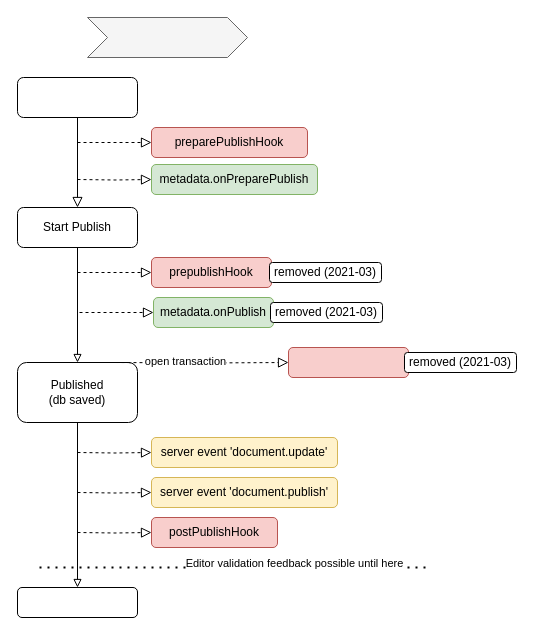
Some shapes in this 534 by 635 pixel diagram are drawn without their labels. Each missing label, with the centre of its shape:
End: [77,602]
Instant Publish: [167,37]
Prepare Publish: [77,97]
publishHook: [348,362]
